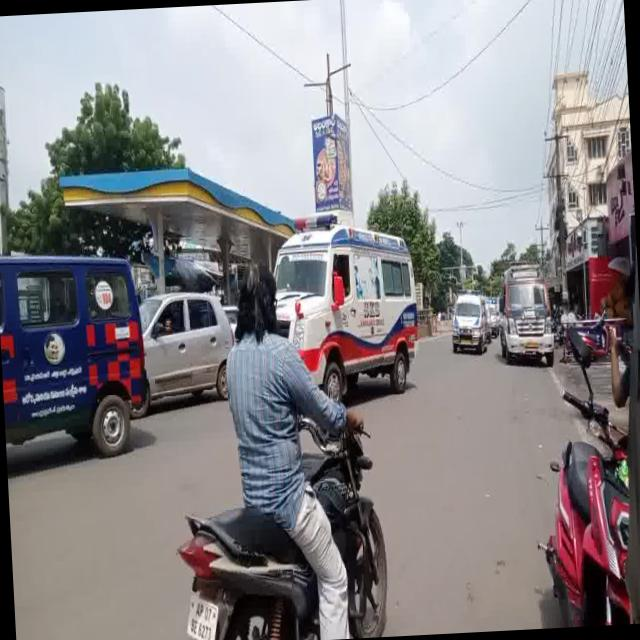ambulance: (0, 234, 154, 467), (282, 192, 450, 399), (494, 254, 564, 377), (451, 287, 494, 367)
